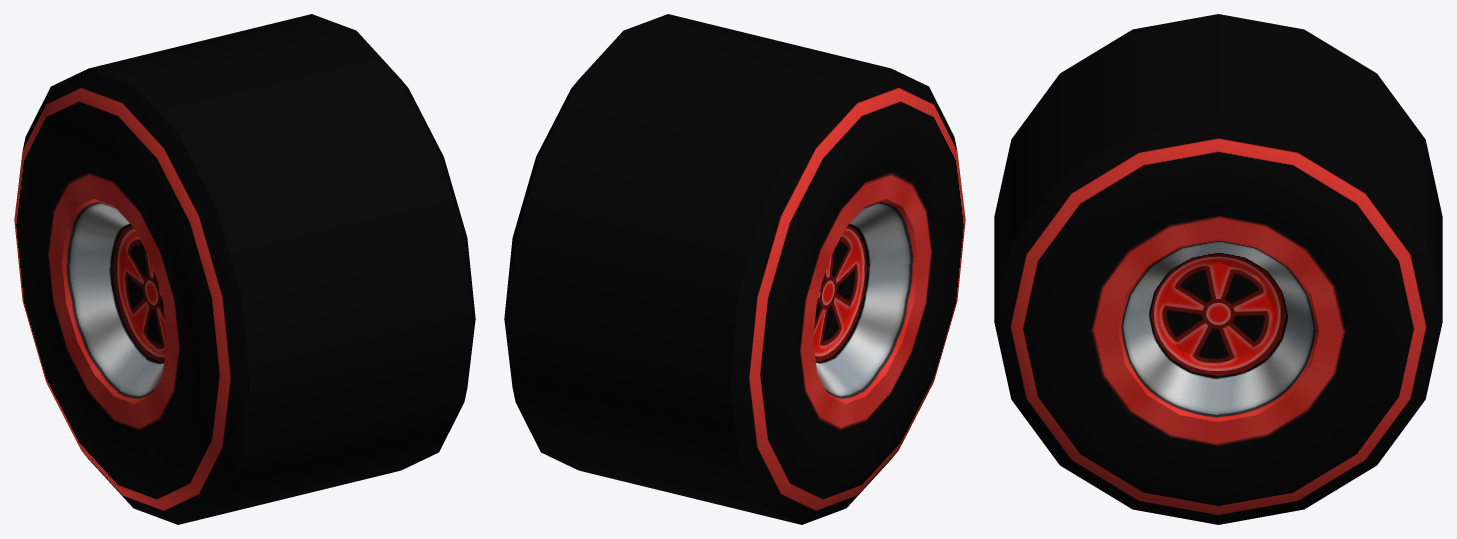
Rendered from wheel_dragon_GT.FBX.
3 views of the same model, side by side, from view 1: azimuth 30°, elevation 25°; view 2: azimuth 150°, elevation 25°; view 3: azimuth 270°, elevation 25° (orthographic). The views are drawn at different scales.
Visible parts, largest first — view 1: wheel_dragon; view 2: wheel_dragon; view 3: wheel_dragon.
Boxes of the visible parts, x1=… form: wheel_dragon: x1=14, y1=14, x2=475, y2=524; wheel_dragon: x1=504, y1=14, x2=965, y2=524; wheel_dragon: x1=994, y1=14, x2=1442, y2=524.
Bounding box in the file's own units: 0.0932 × 0.1389 × 0.1389.
